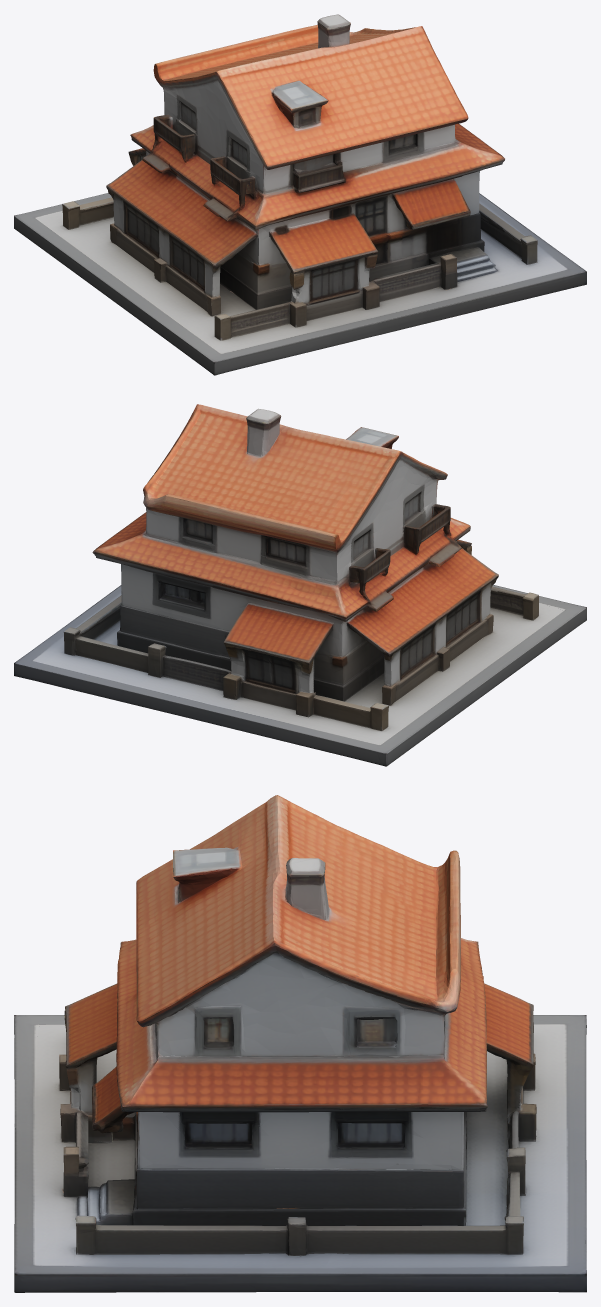
File: houseModel.glb
3 views of the same model, one above another, from view 1: azimuth 30°, elevation 25°; view 2: azimuth 150°, elevation 25°; view 3: azimuth 270°, elevation 25° (orthographic). The views are drawn at different scales.
Visible parts, largest first — view 1: world; view 2: world; view 3: world.
Part boxes in pixels (bbox=[...]): world: bbox=[14, 14, 586, 375]; world: bbox=[14, 404, 586, 766]; world: bbox=[14, 795, 586, 1292].
Size of the model in its own units: 1 by 0.5819 by 0.9327.
1 material, 1 textured.
